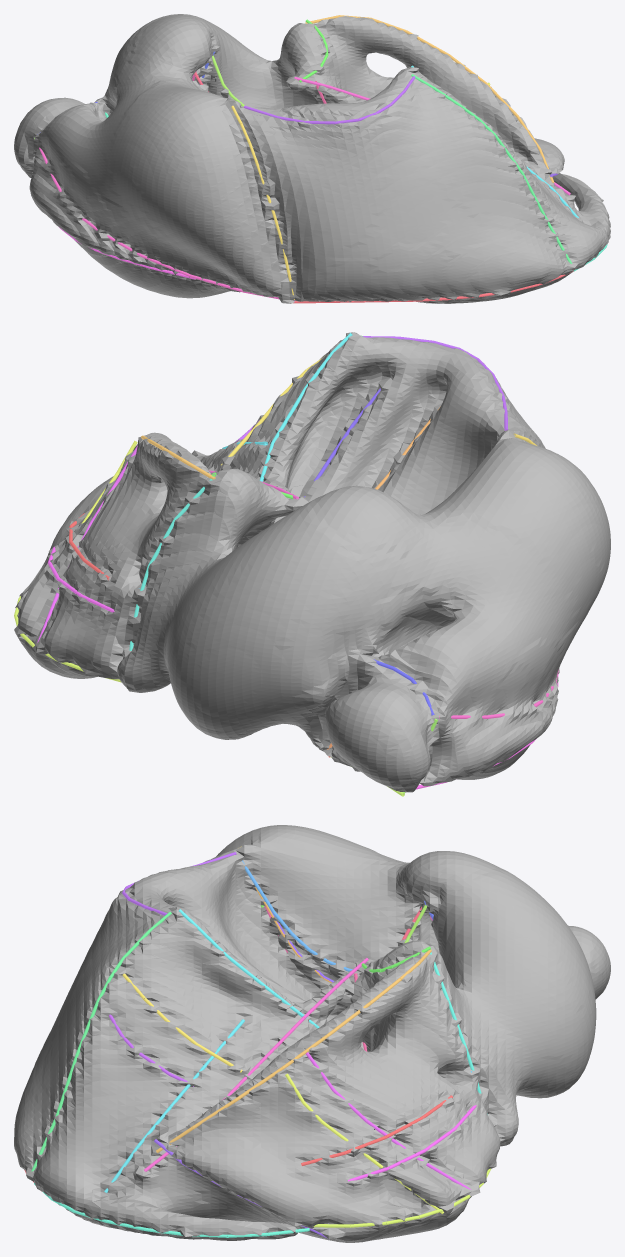
File: author1_building.gltf
3 renders of one model, top to bottom at view 1: azimuth 30°, elevation 25°; view 2: azimuth 150°, elevation 25°; view 3: azimuth 270°, elevation 25°, orthographic. The views are drawn at different scales.
Size of the model in its own units: 0.7067 by 0.3598 by 0.7057.
